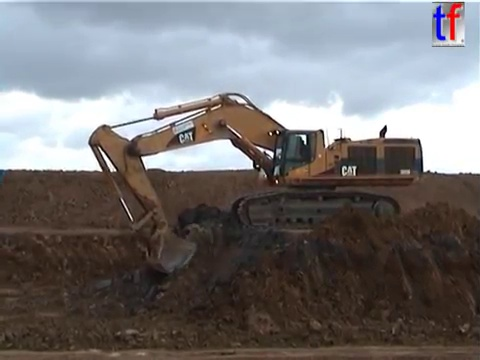excavator: (84, 89, 426, 276)
